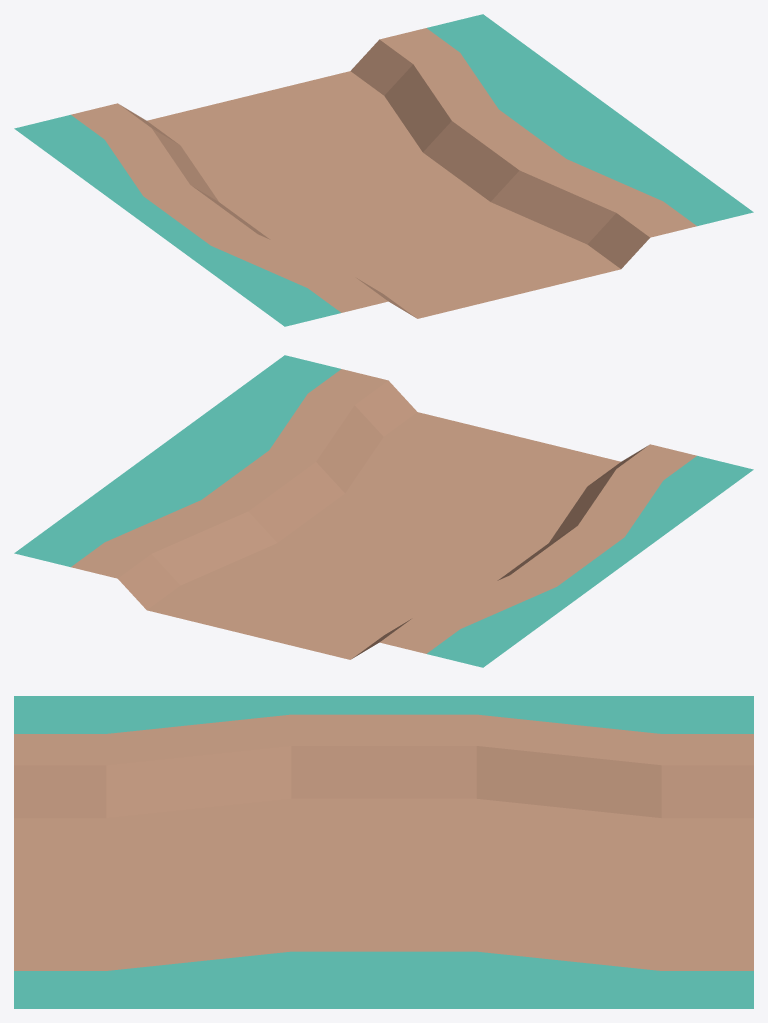
Rendered from ground_pathStraight.glb.
The picture shows the model from 3 angles, top to bottom: view 1: azimuth 30°, elevation 25°; view 2: azimuth 150°, elevation 25°; view 3: azimuth 270°, elevation 25°; orthographic projection. The views are drawn at different scales.
Visible parts, largest first — view 1: ground_pathStraight; view 2: ground_pathStraight; view 3: ground_pathStraight.
Part boxes in pixels (x1,y1,x2,y2): ground_pathStraight: (14, 14, 753, 326); ground_pathStraight: (14, 355, 753, 667); ground_pathStraight: (14, 696, 753, 1008).
Size of the model in its own units: 1 by 0.05 by 1.
